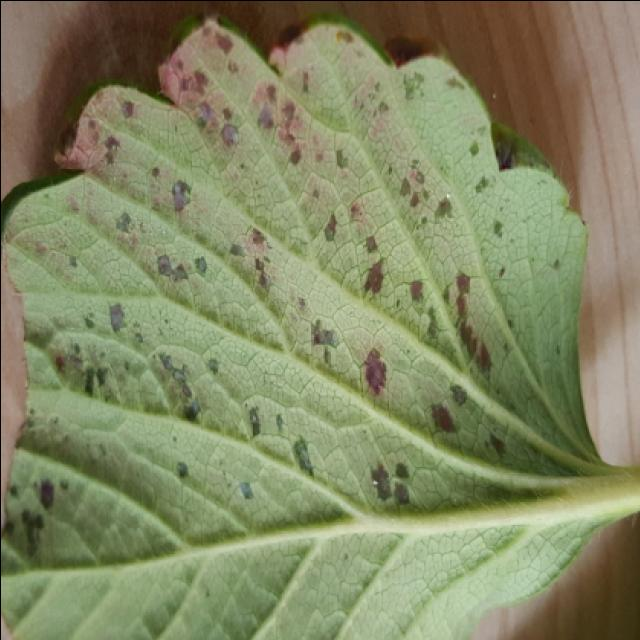Angular Leafspot: (0, 7, 586, 562)
